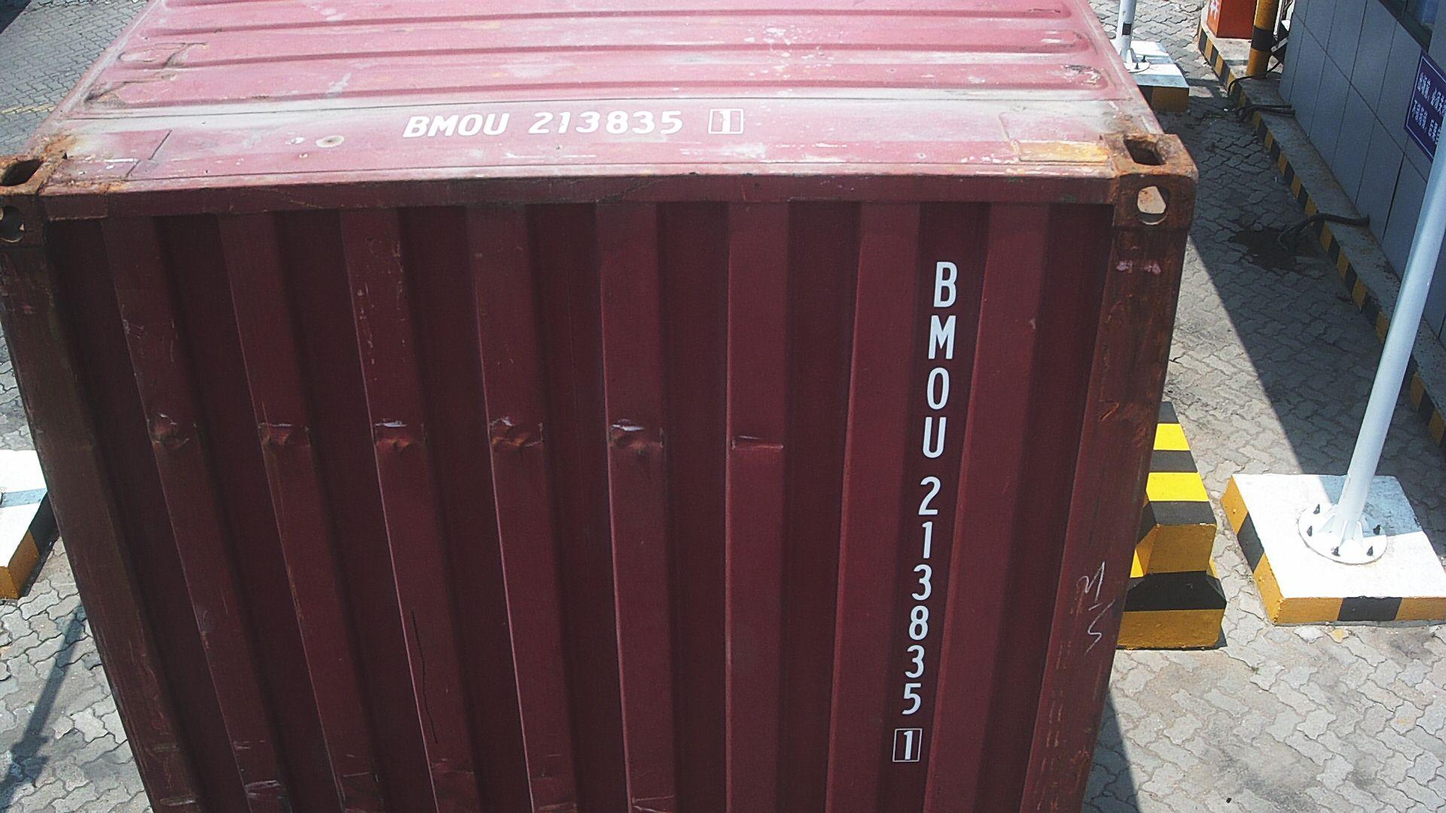container-numbers: (889, 255, 965, 766), (392, 105, 752, 141)
